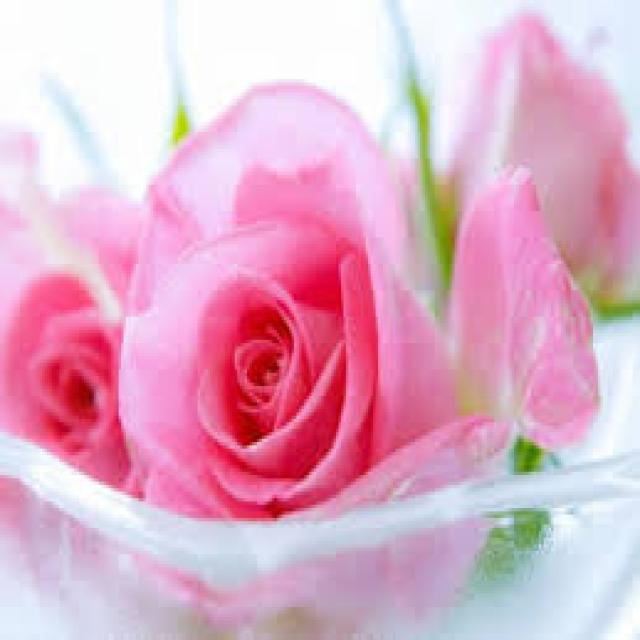rose: (103, 96, 466, 536)
